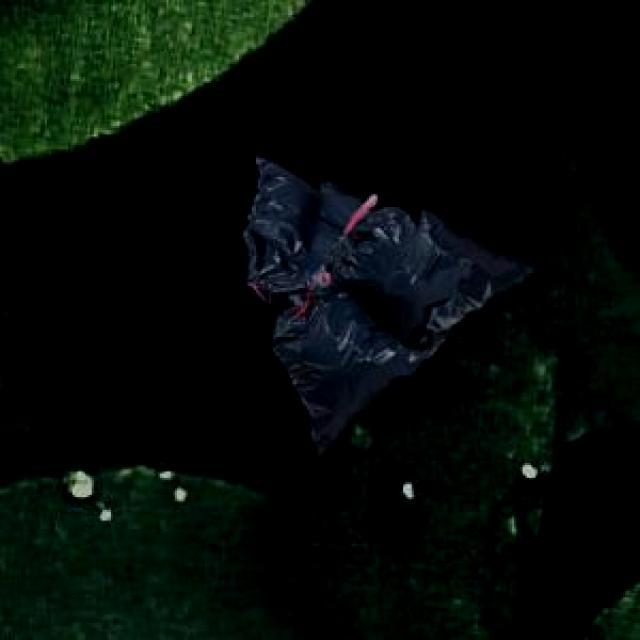Trashbag: (278, 294, 414, 450), (376, 230, 500, 348), (244, 152, 318, 285)
